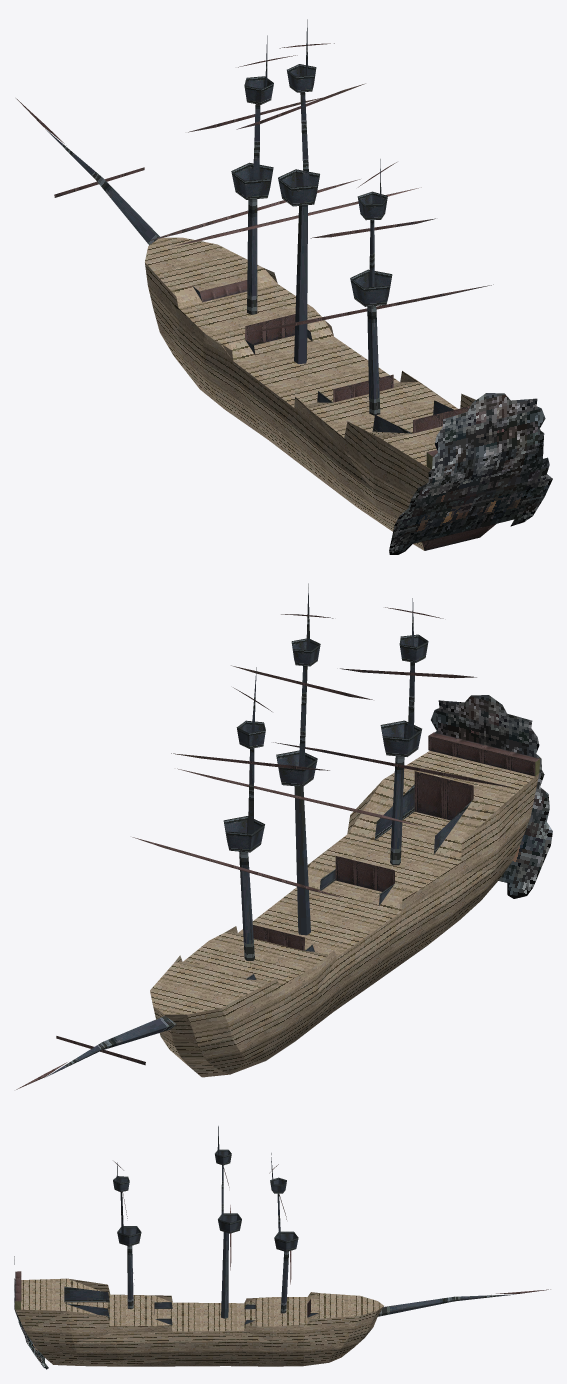
Rendered from lodtshp01_lvs.obj.
3 renders of one model, top to bottom at view 1: azimuth 30°, elevation 25°; view 2: azimuth 150°, elevation 25°; view 3: azimuth 270°, elevation 25°, orthographic. The views are drawn at different scales.
Visible parts, largest first — view 1: lodtshp01_lvs; view 2: lodtshp01_lvs; view 3: lodtshp01_lvs.
Part boxes in pixels (x1,y1,x2,y2): lodtshp01_lvs: (16,19,552,554); lodtshp01_lvs: (16,583,552,1089); lodtshp01_lvs: (14,1126,550,1369).
Bounding box in the file's own units: 24.49 × 37.36 × 76.54.
5 materials, 5 textured.
